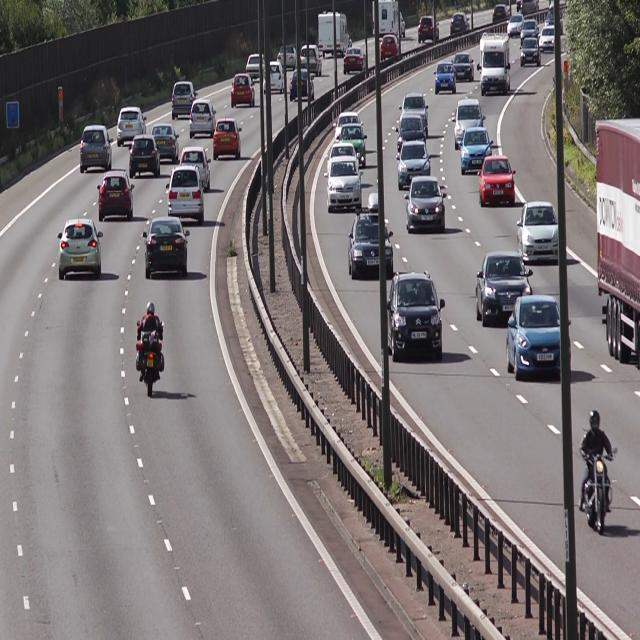Car: (508, 292, 576, 386), (385, 272, 446, 364), (474, 251, 533, 325), (348, 192, 397, 280), (516, 198, 562, 266), (143, 218, 192, 280), (56, 218, 105, 280), (405, 175, 449, 238), (167, 166, 205, 228), (482, 28, 512, 96), (479, 155, 516, 210), (98, 171, 135, 225), (325, 158, 364, 209), (397, 140, 433, 193), (458, 126, 495, 175), (454, 97, 484, 150), (80, 126, 114, 172), (129, 135, 160, 180), (213, 117, 244, 161), (115, 106, 146, 148), (173, 80, 199, 123), (190, 99, 218, 138), (231, 72, 257, 112), (433, 60, 458, 96), (518, 36, 543, 71)
